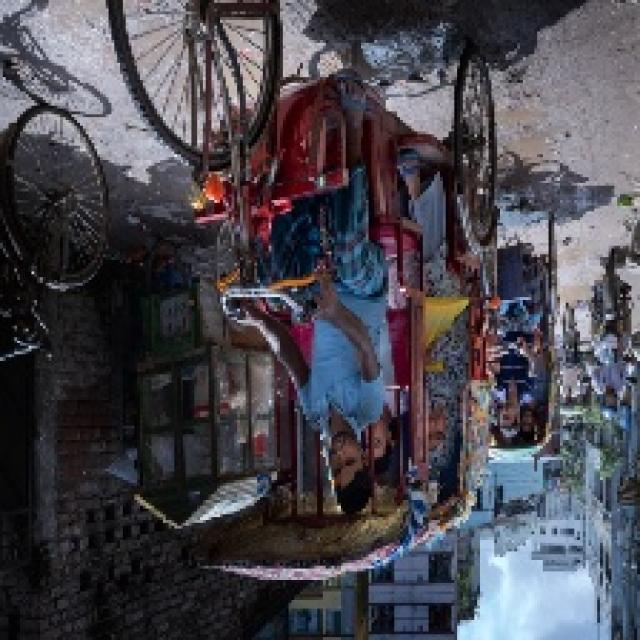bike: (586, 250, 634, 383)
rickshaw: (98, 15, 476, 567), (482, 204, 566, 476)
